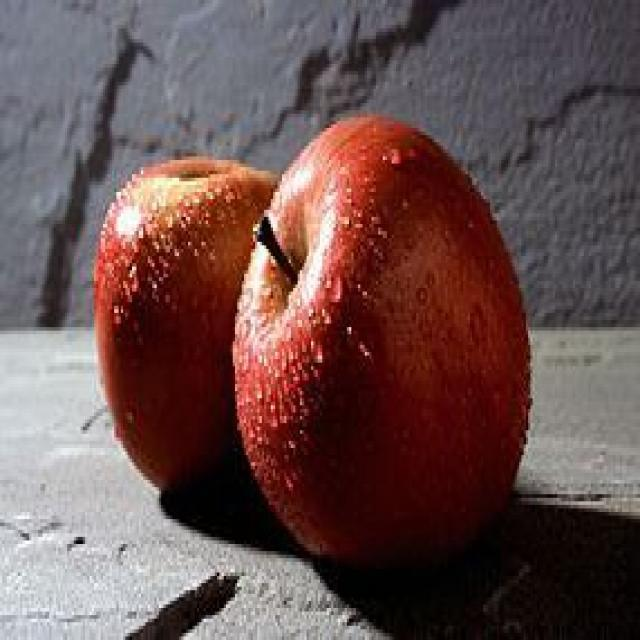Fresh Apple: (240, 142, 522, 600), (88, 143, 322, 527)
